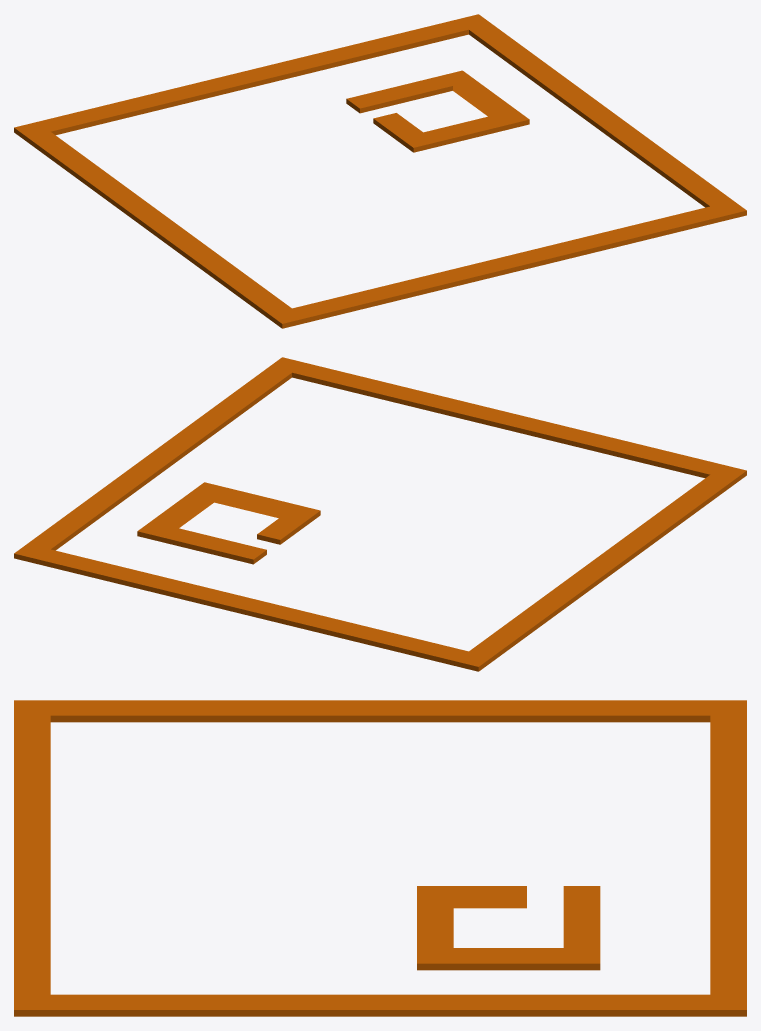
The model's file is stripes.obj.
3 views of the same model, one above another, from view 1: azimuth 30°, elevation 25°; view 2: azimuth 150°, elevation 25°; view 3: azimuth 270°, elevation 25° (orthographic). The views are drawn at different scales.
Parts seen in each view (by area): view 1: Cube; view 2: Cube; view 3: Cube.
Boxes of the visible parts, box(x1,y1,x2,y2) form: Cube: box(14, 14, 746, 328); Cube: box(14, 357, 746, 671); Cube: box(14, 700, 746, 1016).
Size of the model in its own units: 2 by 0.02 by 2.
